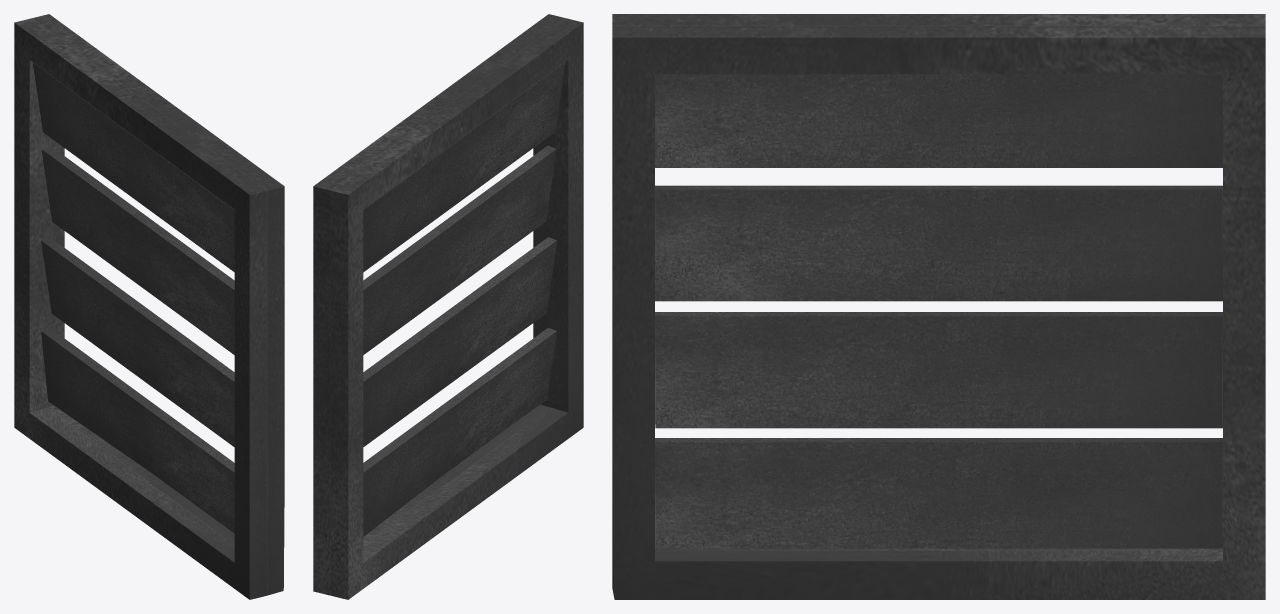
File: VentCover.fbx
3 views of the same model, side by side, from view 1: azimuth 30°, elevation 25°; view 2: azimuth 150°, elevation 25°; view 3: azimuth 270°, elevation 25° (orthographic). The views are drawn at different scales.
Parts seen in each view (by area): view 1: Cube; view 2: Cube; view 3: Cube.
Boxes of the visible parts, x1,y1,x2,y2 form: Cube: (14,14,284,599); Cube: (313,14,583,599); Cube: (612,14,1265,599).
Size of the model in its own units: 17.12 by 190 by 200.
1 material, 1 textured.
